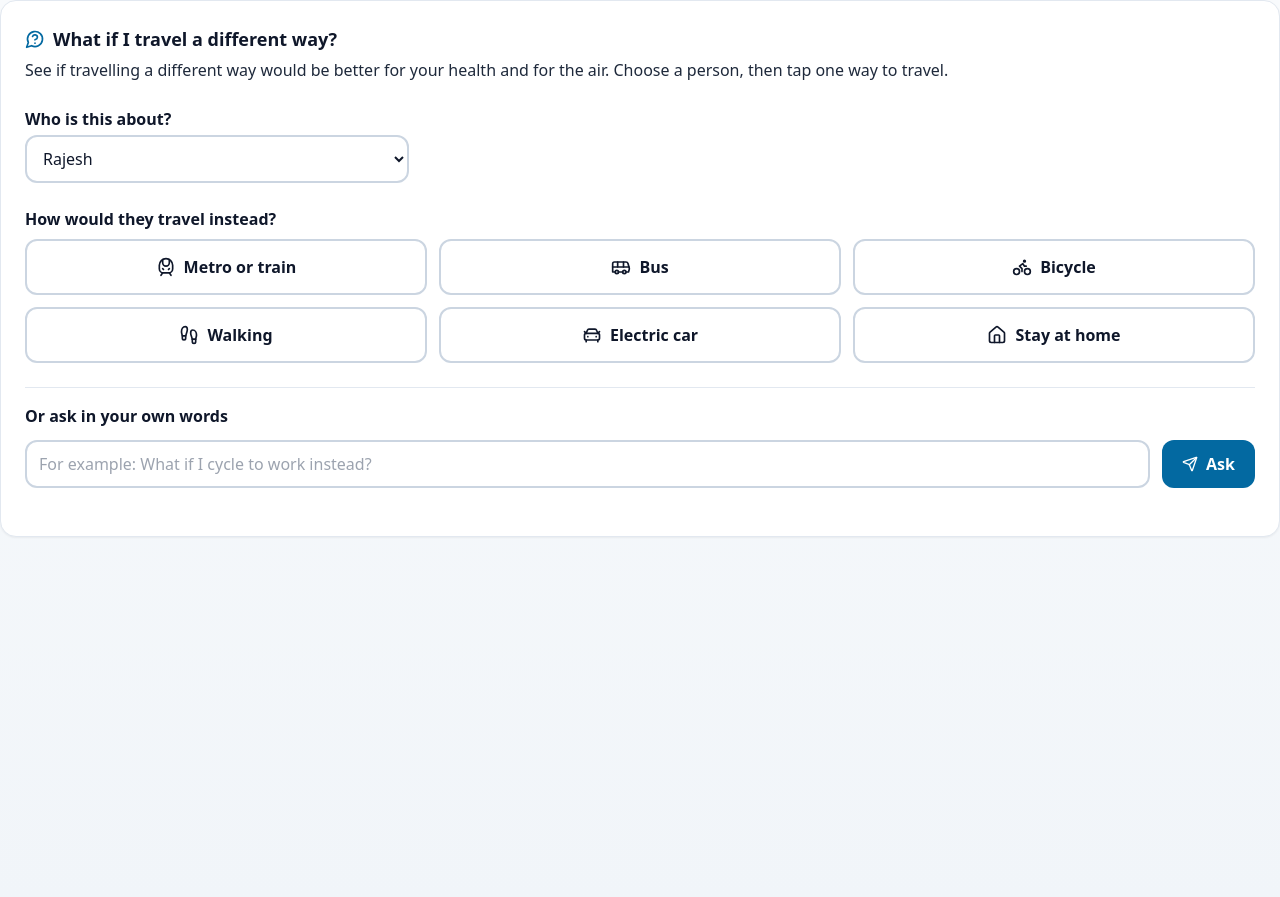
Test case: WhatIfPanel › clears the answer when a different person is chosen
Click the button "Metro or train". click: point(226, 267)
box: [25,239,427,295]
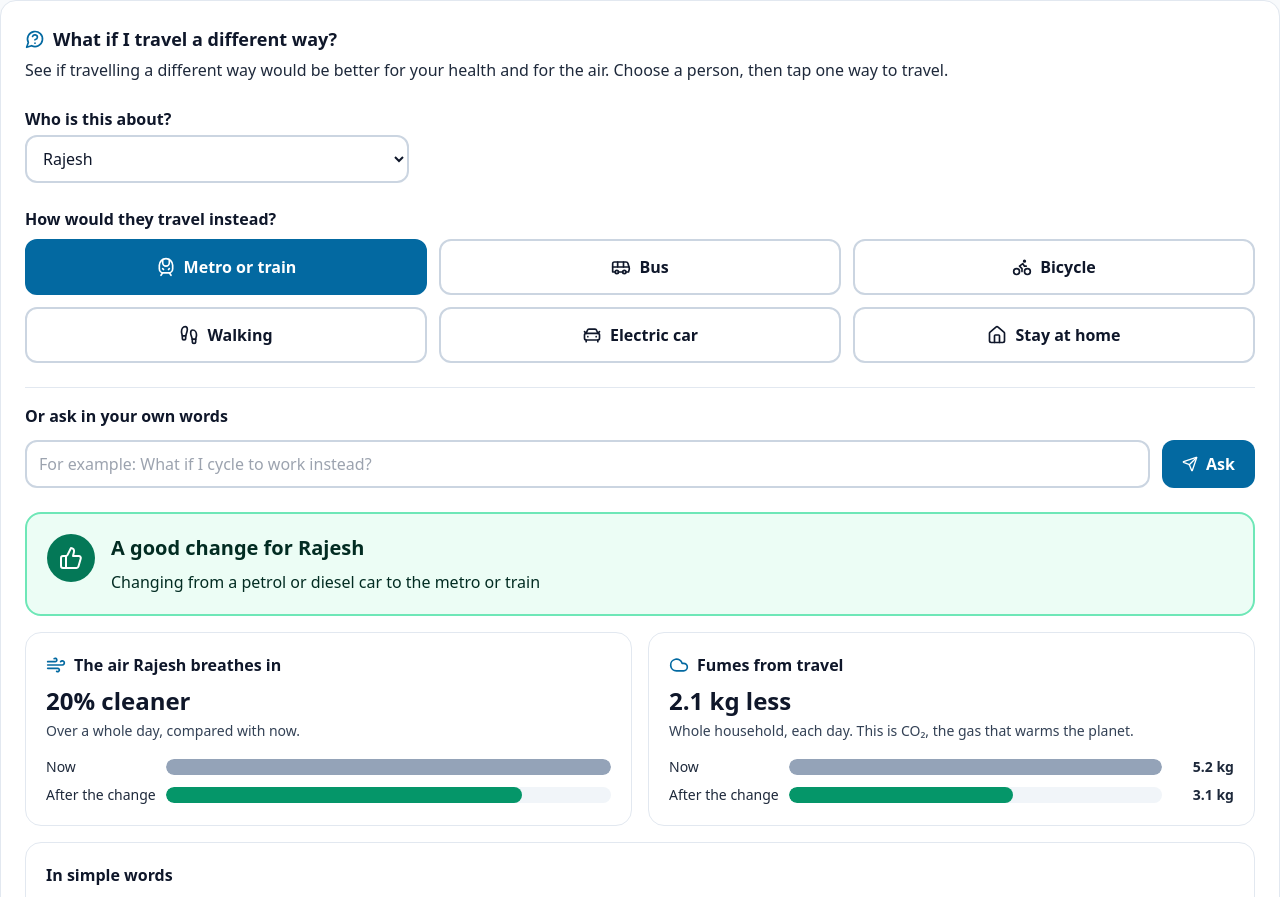
Check: the heading "A good change for Rajesh" is shown, box [111,534,364,561]
Select "Meera" in the dropdown labelled "Who is this about?". click: point(217, 159)
box: [25,135,409,183]
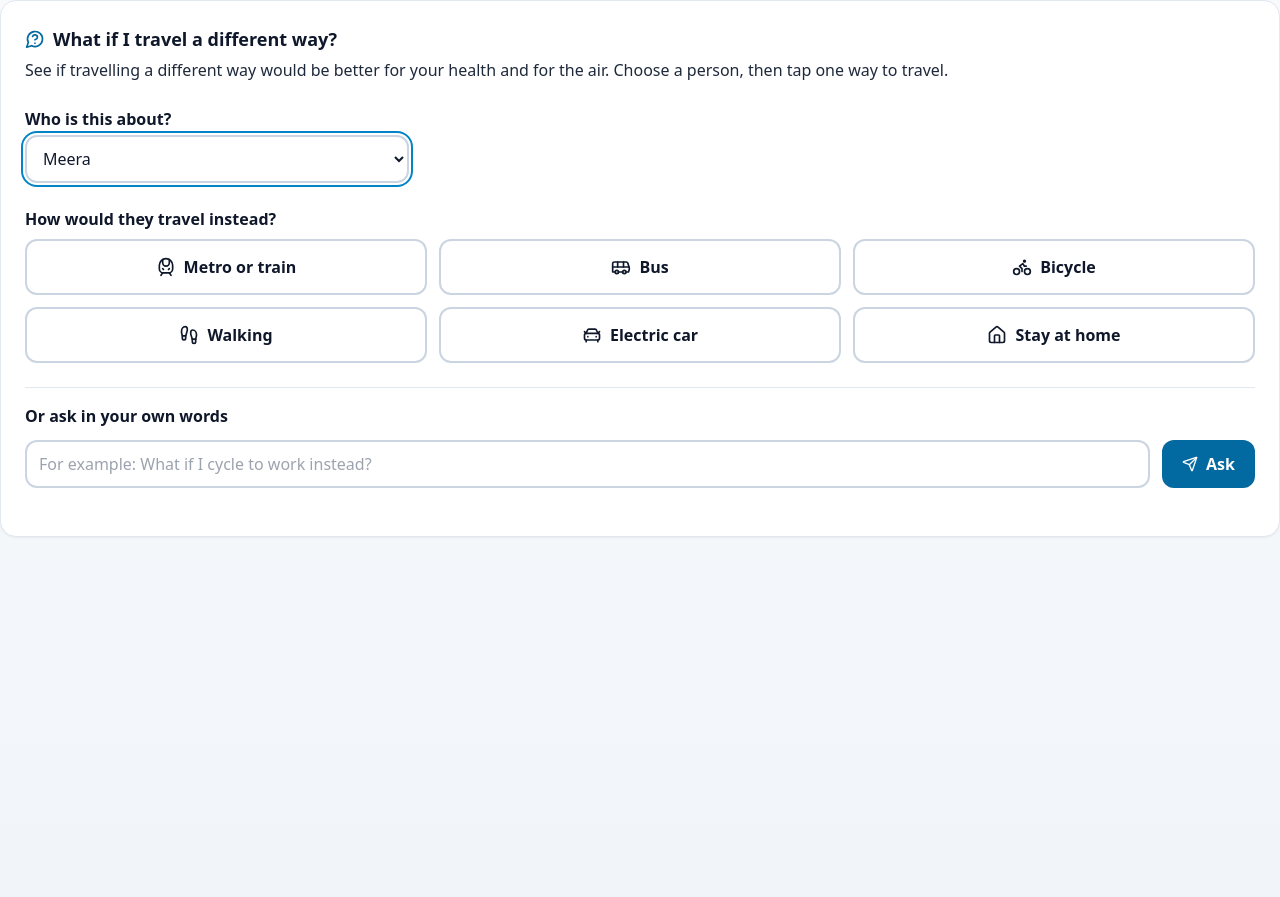
Check: the heading "A good change for Rajesh" is gone
